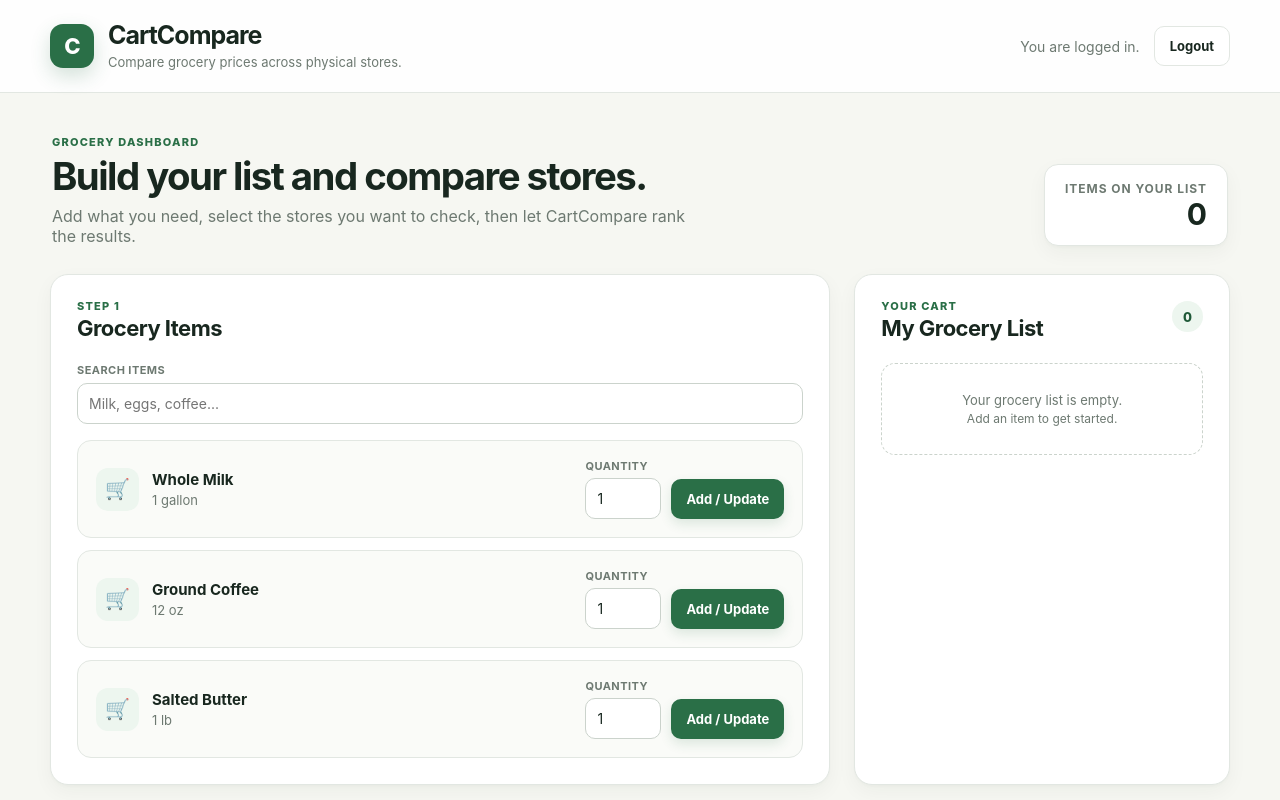
Scenario: App item search › says when no item matches the search
Type "tofu" into the search field labelled "Search items".
click(440, 404); type("tofu")  # box [77,383,803,424]
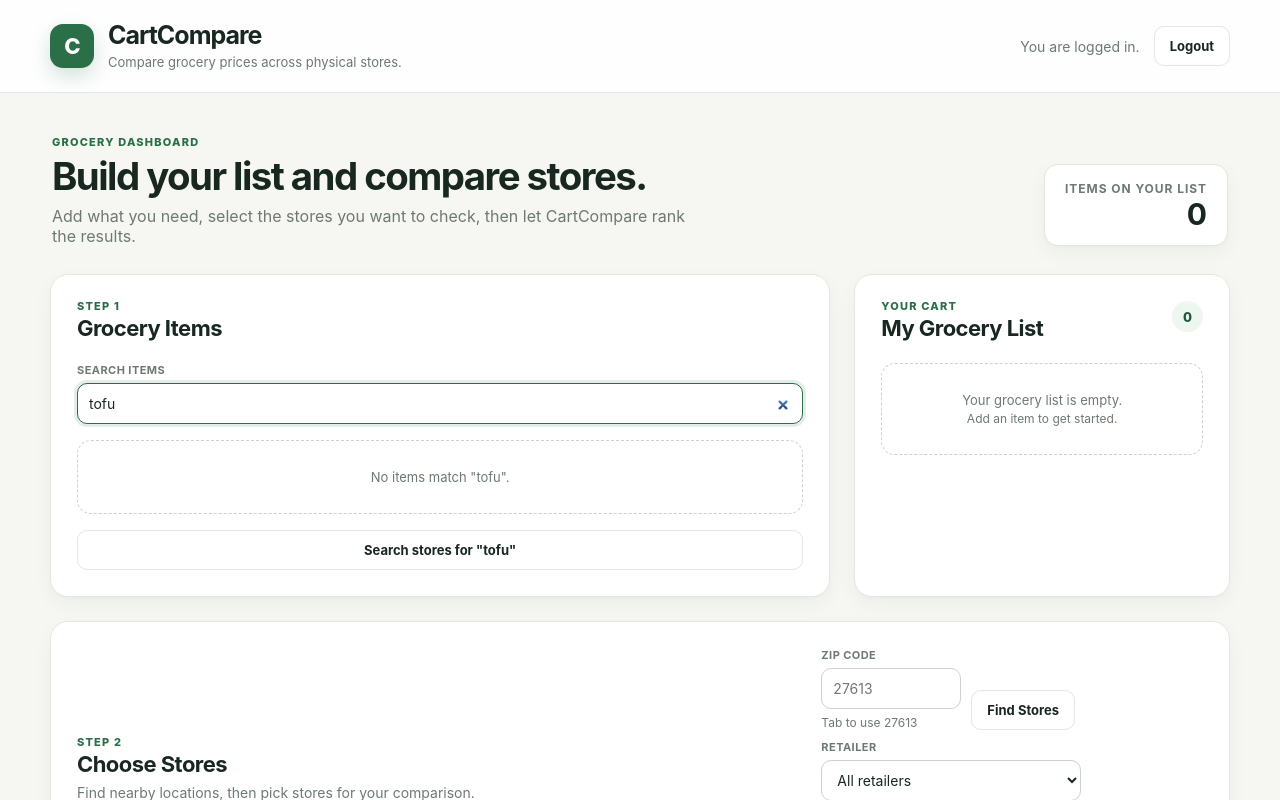
Now the text "No items match \"tofu\"." is shown, box [77,440,803,514]
